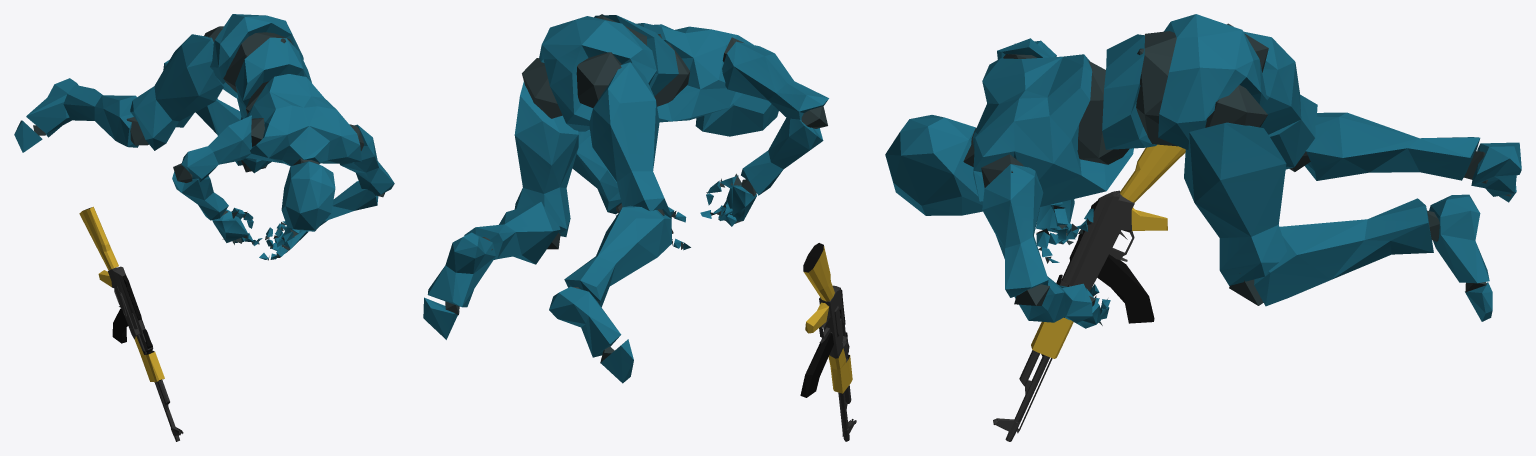
Rendered from EnemyDying_000047.obj.
The picture shows the model from 3 angles, left to right: view 1: azimuth 30°, elevation 25°; view 2: azimuth 150°, elevation 25°; view 3: azimuth 270°, elevation 25°; orthographic projection. The views are drawn at different scales.
Visible parts, largest first — view 1: Alpha_Surface, AK-47_Cube, Alpha_Joints; view 2: Alpha_Surface, Alpha_Joints, AK-47_Cube; view 3: Alpha_Surface, AK-47_Cube, Alpha_Joints.
Boxes of the visible parts, x1,y1,x2,y2 form: Alpha_Surface: (14,14,394,259); AK-47_Cube: (79,206,183,441); Alpha_Joints: (33,26,385,260); Alpha_Surface: (423,15,828,383); Alpha_Joints: (445,14,827,363); AK-47_Cube: (800,243,856,441); Alpha_Surface: (885,14,1521,328); AK-47_Cube: (993,144,1185,441); Alpha_Joints: (963,23,1511,325).
Size of the model in its own units: 199 by 256 by 283.
